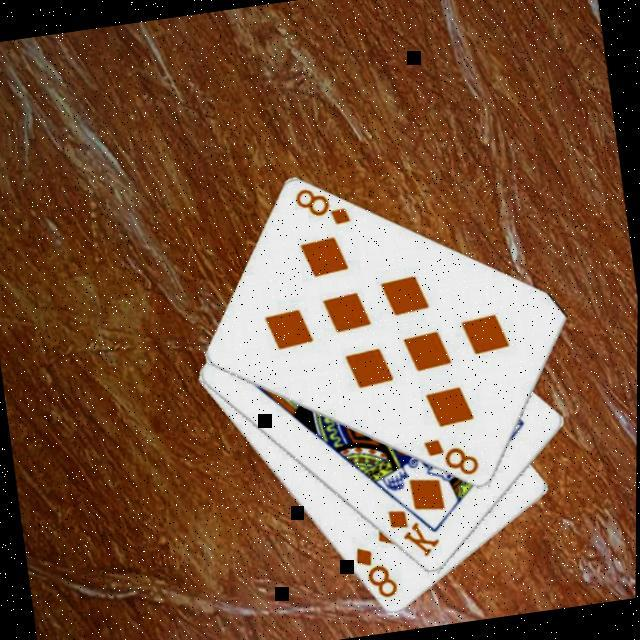8D: (419, 432, 484, 487), (290, 182, 354, 236), (350, 542, 402, 608)
KD: (384, 503, 444, 567)
